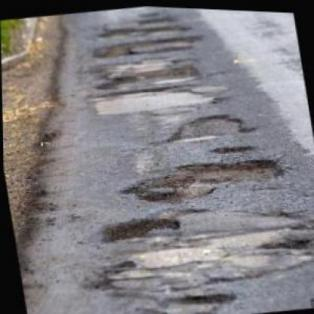Hueco: (114, 144, 289, 214), (92, 25, 206, 63), (163, 103, 260, 147), (92, 57, 204, 95), (94, 209, 182, 248), (98, 16, 195, 44), (207, 138, 256, 155)
